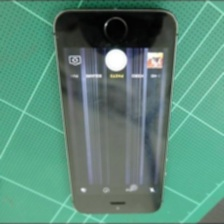phone: (49, 4, 182, 217)
